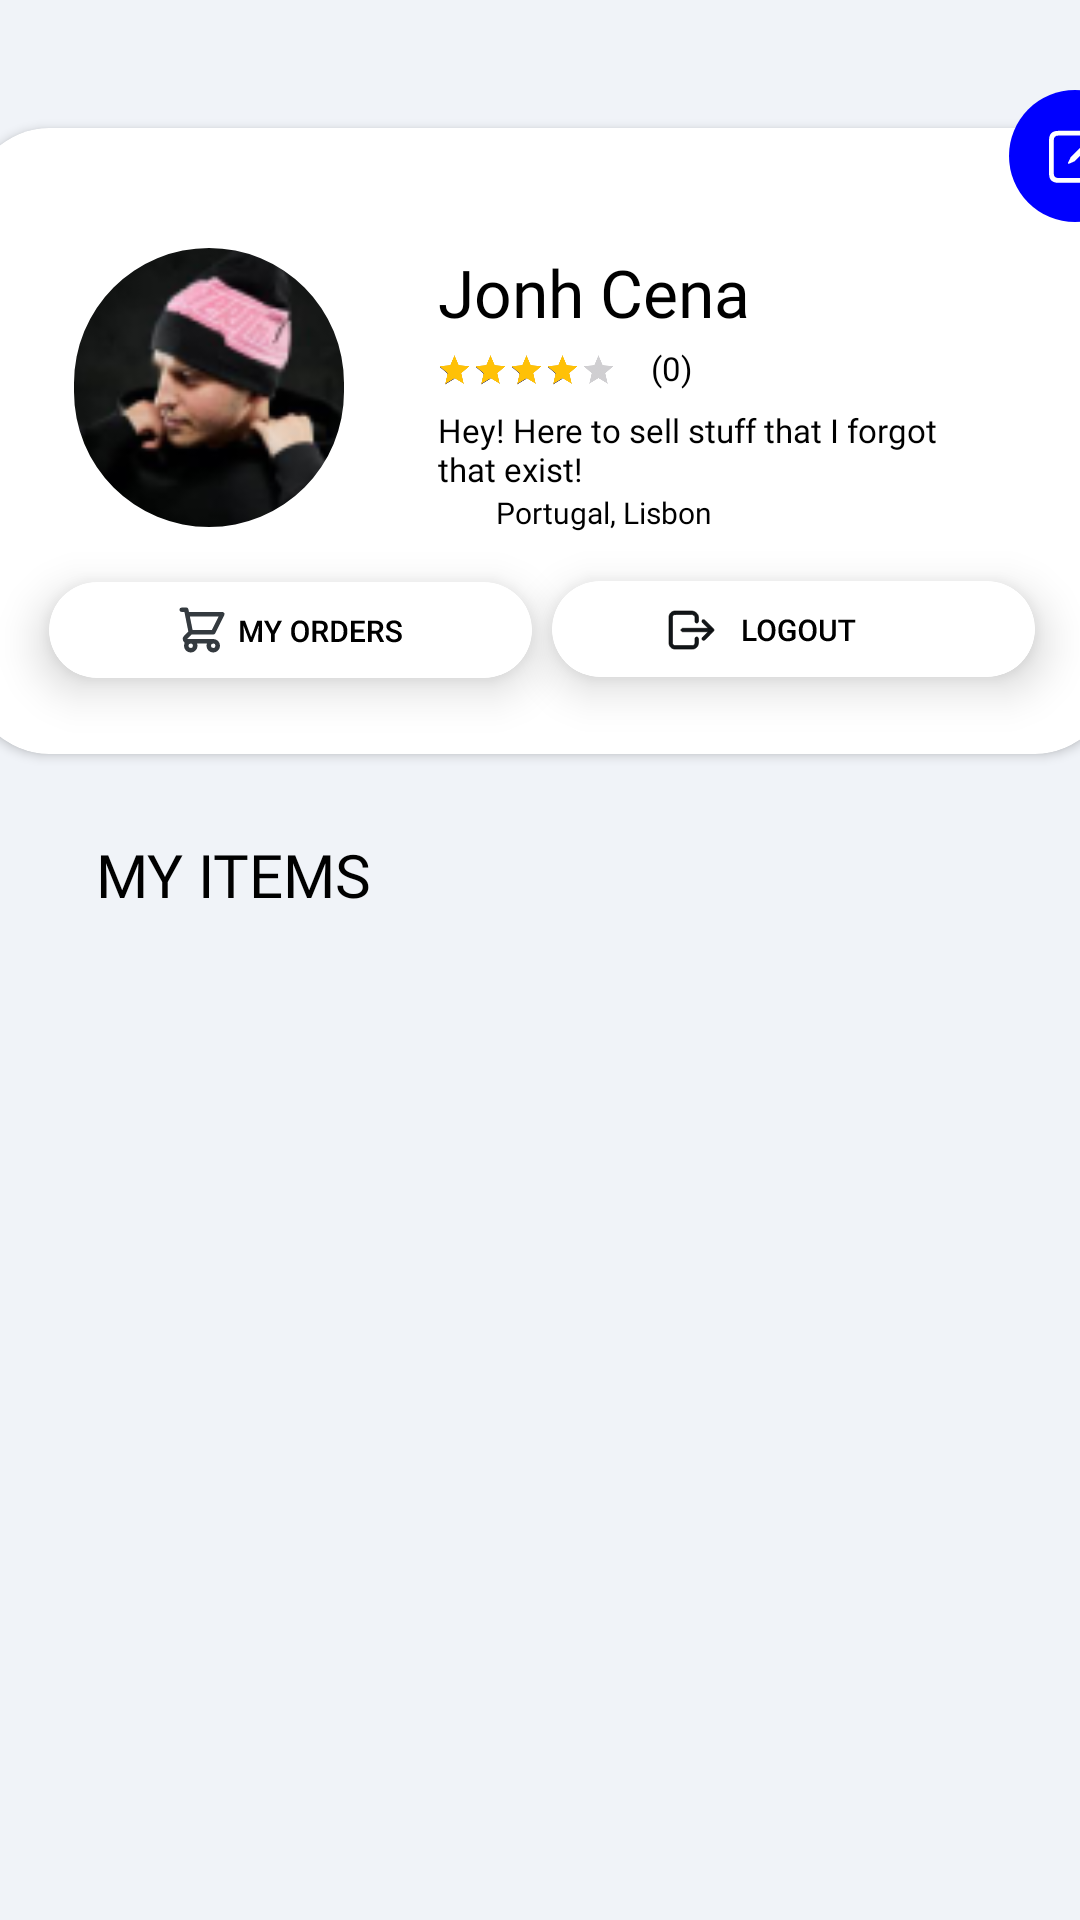

Icon bounding boxes for this 1080 x 1920 phone screenshot, format [left=x1, top=y1, right=x2, bottom=y2]:
profile: [left=74, top=248, right=344, bottom=527]
